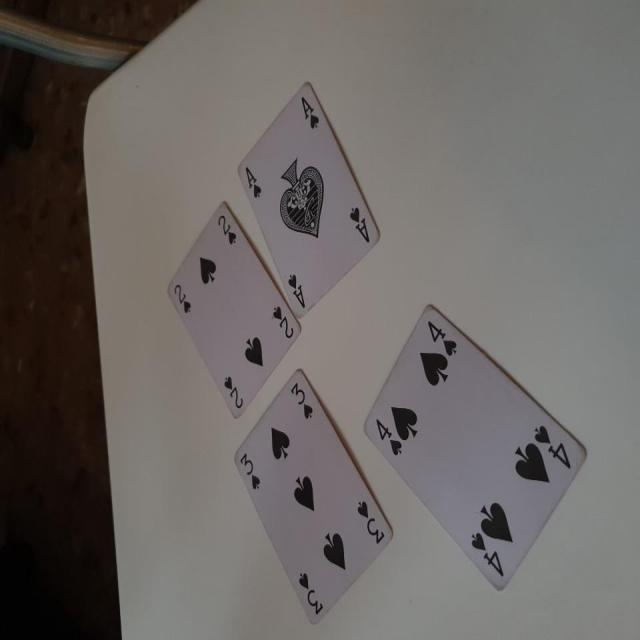3 Diamonds: (165, 204, 304, 418)
4 Diamonds: (233, 373, 391, 634)
5 Diamonds: (361, 305, 588, 593)
A Spades: (237, 84, 381, 316)
